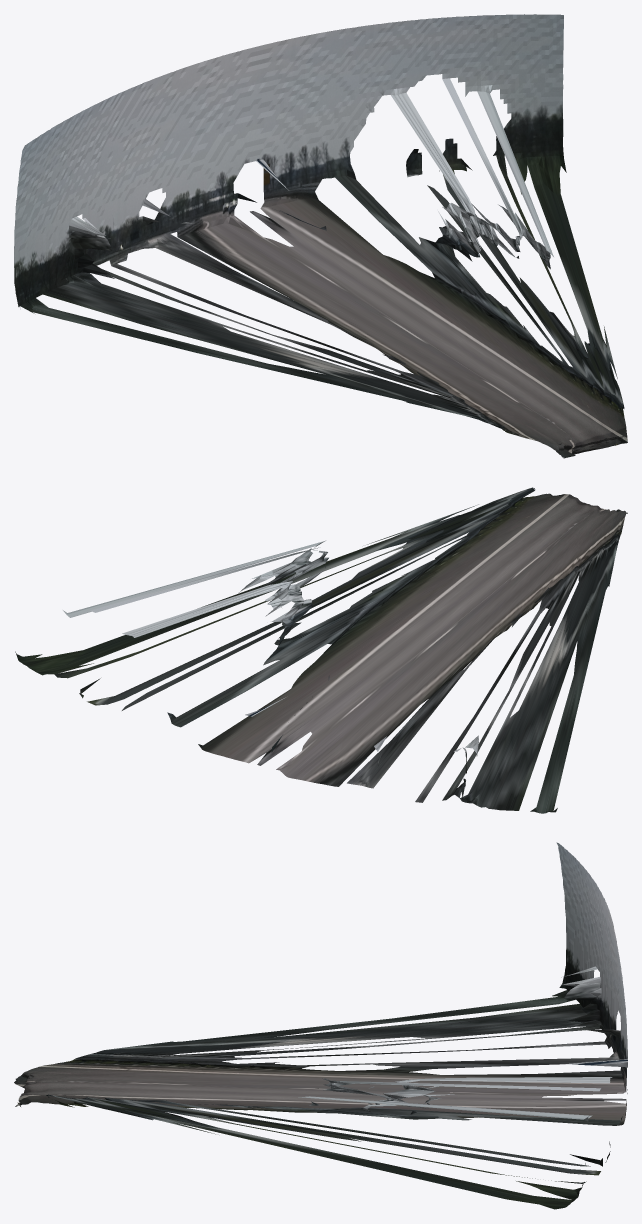
3 views of the same model, one above another, from view 1: azimuth 30°, elevation 25°; view 2: azimuth 150°, elevation 25°; view 3: azimuth 270°, elevation 25° (orthographic). The views are drawn at different scales.
Visible parts, largest first — view 1: defaultobject; view 2: defaultobject; view 3: defaultobject.
Part boxes in pixels (bbox=[...]): defaultobject: bbox=[14, 14, 627, 458]; defaultobject: bbox=[15, 487, 627, 813]; defaultobject: bbox=[14, 842, 627, 1209].
Bounding box in the file's own units: 41.16 × 12.89 × 44.52.
1 material, 1 textured.
